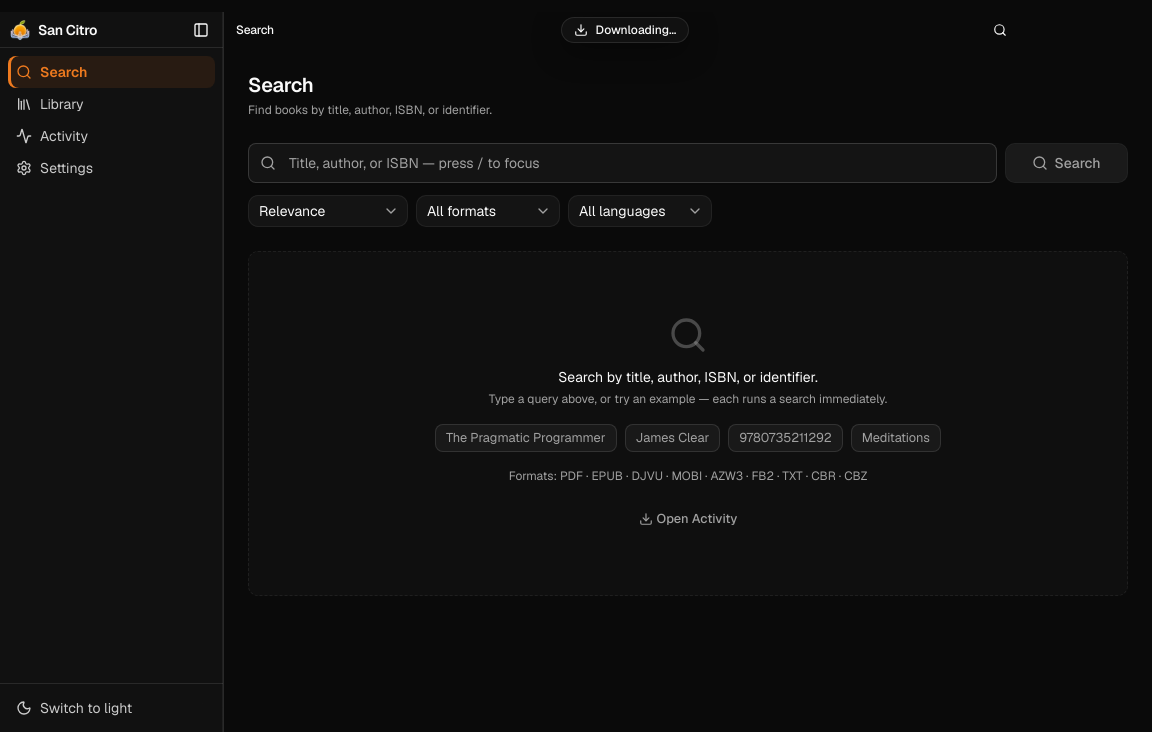
Test: Desktop layout regression (#64) — semantic non-overlap › uses deterministic fixtures (no live network bridge methods required)
expect the header "Search Downloading…" is shown: met, box [224,12,1151,48]
expect the element showing "San Citro Search Library Activity Settings Switch to light" is shown: met, box [0,12,224,731]
Type "no network" into the field named "Search query" at (622, 163), box [248,143,997,183]
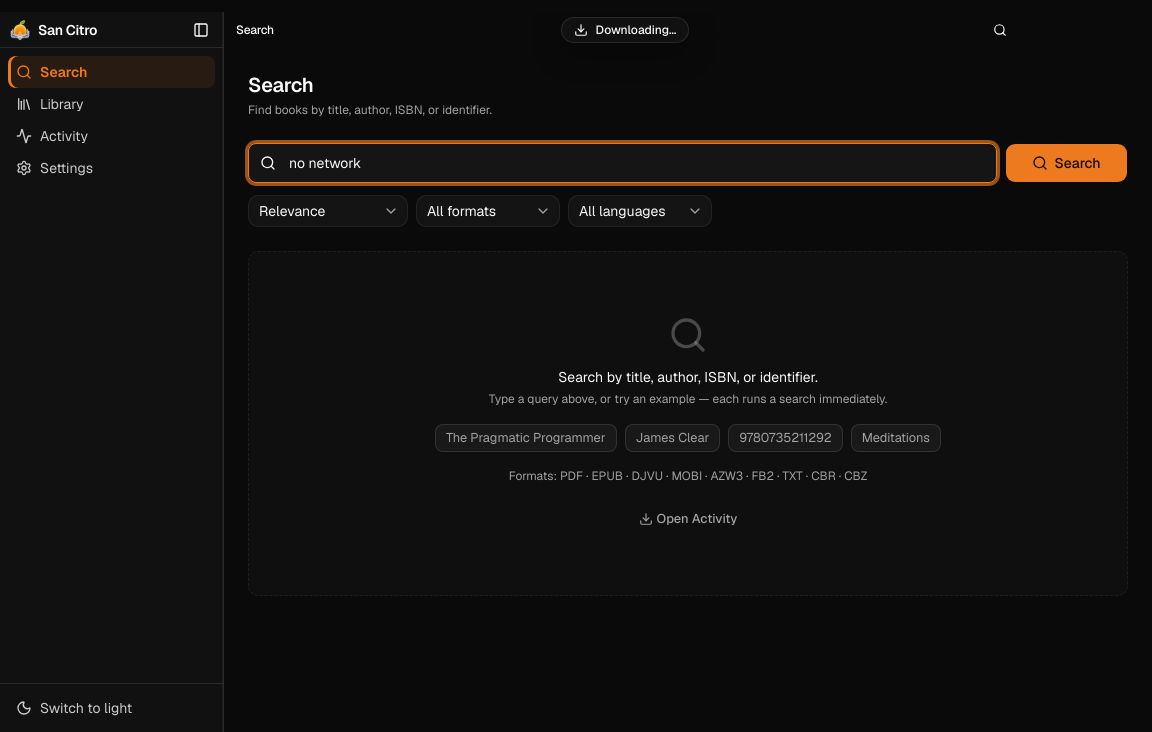
Submit the form named "Search controls", box [248,143,1128,227]
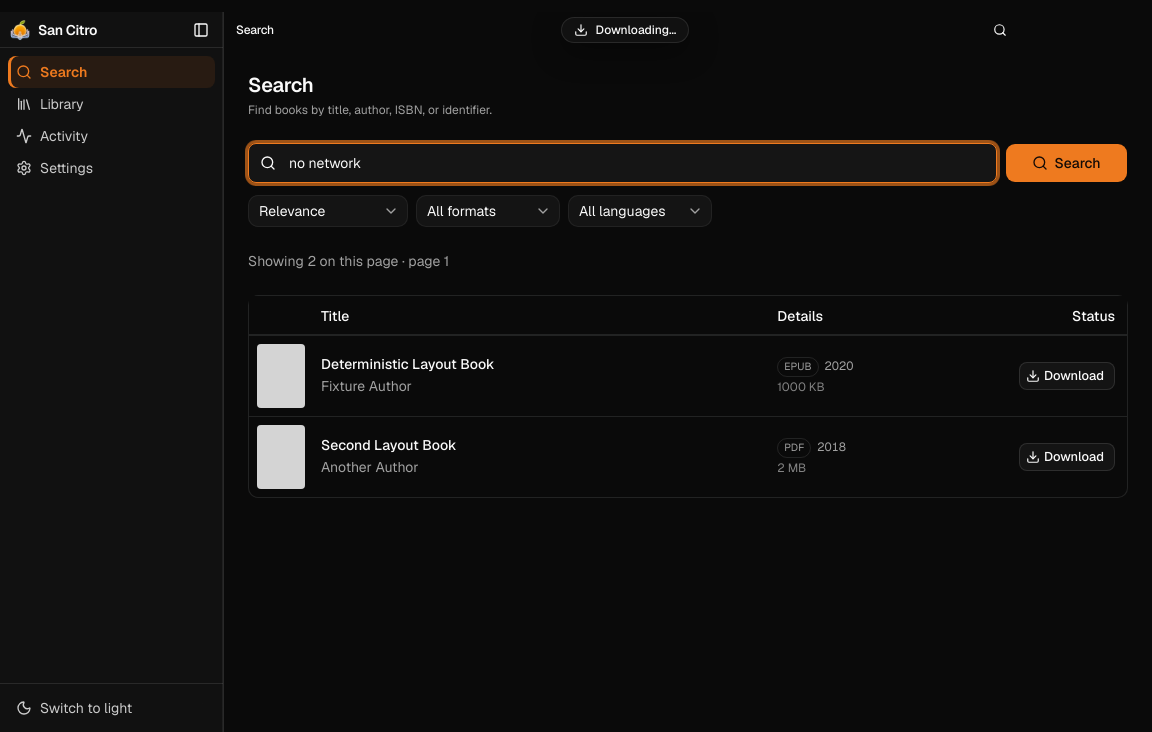
expect the element that starts with "Title" is shown: met, box [248,295,1128,498]
expect the text "Deterministic Layout Book" is shown: met, box [321,355,494,373]
expect the text "Second Layout Book" is shown: met, box [321,436,456,454]
